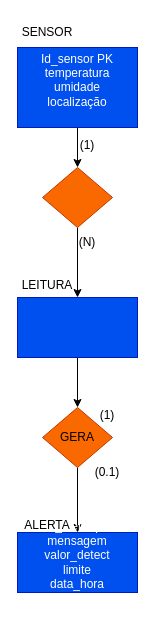
The diagram is 155 pixels wide and 622 high, and some of its shapes have lost their labels. Here are the shapes that lost their labels. From the top down, the centre of each, then its label:
At (x=77, y=197): "Possui".
At (x=77, y=327): "id_leitura valor data_hora".
